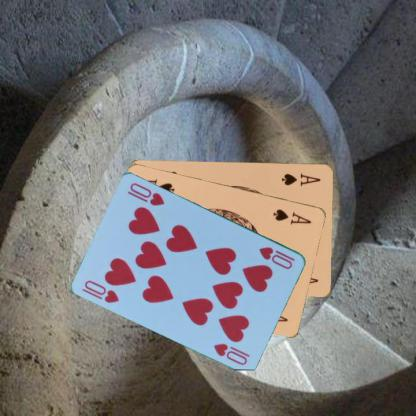10h: (256, 243, 297, 270), (82, 277, 121, 304)
As: (270, 206, 314, 224), (279, 170, 322, 186)
